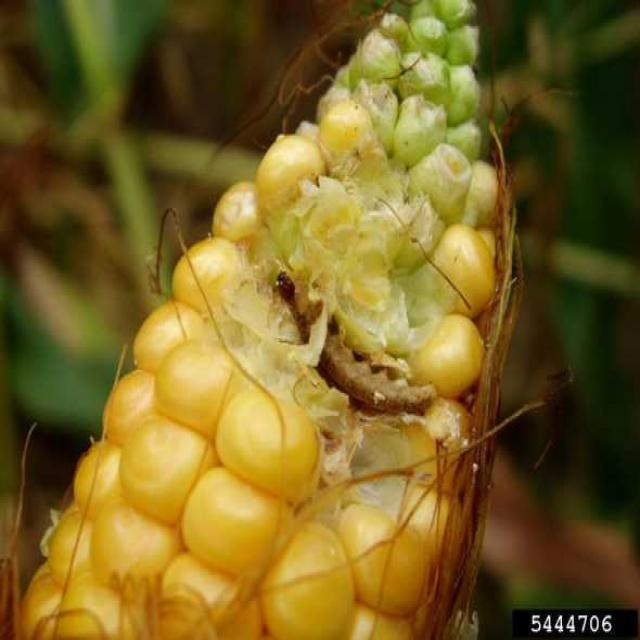worm: (273, 271, 449, 420)
